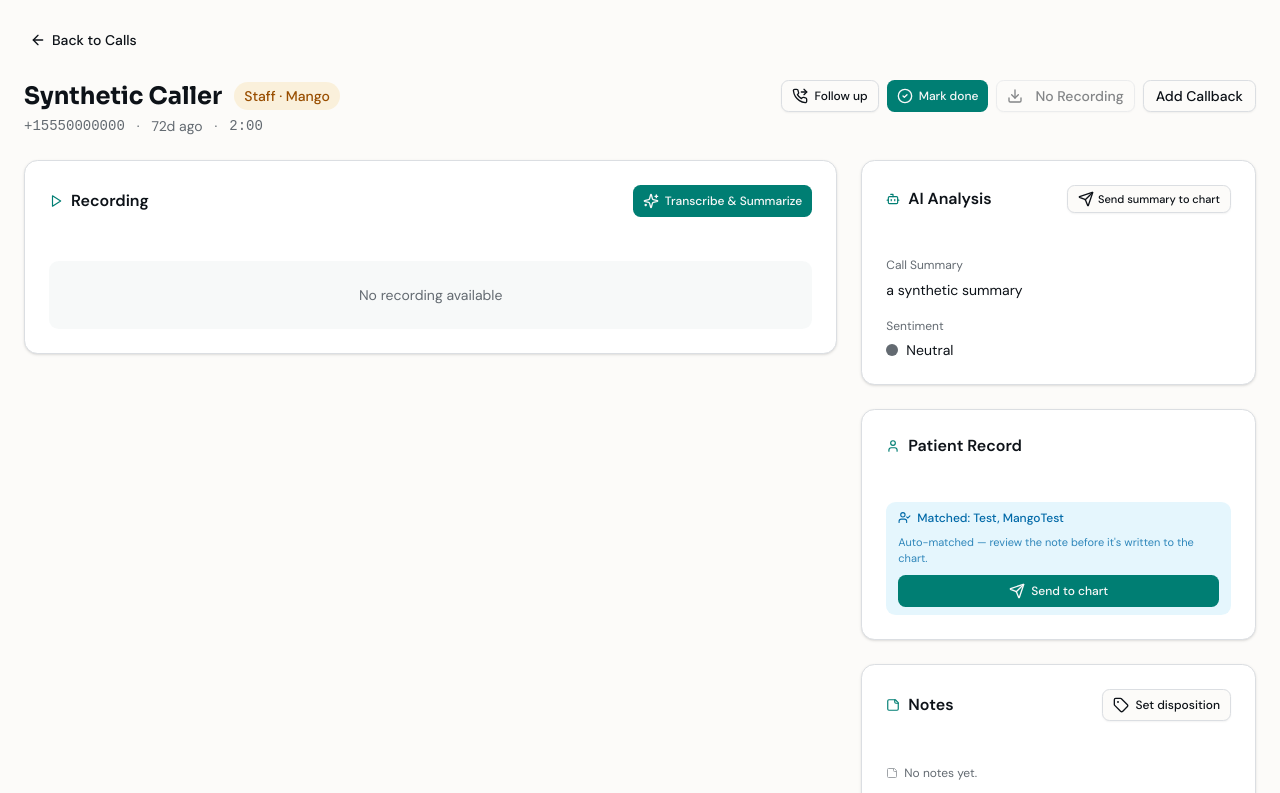
Test: triage on the call-detail page › marks done with the outcome and the note, and says which outcome
Check: the element with test id "call-header-actions" is shown, box [782,80,1256,112]
Click the button with test id "triage-mark-done" at [938, 96], box [887,80,988,112]
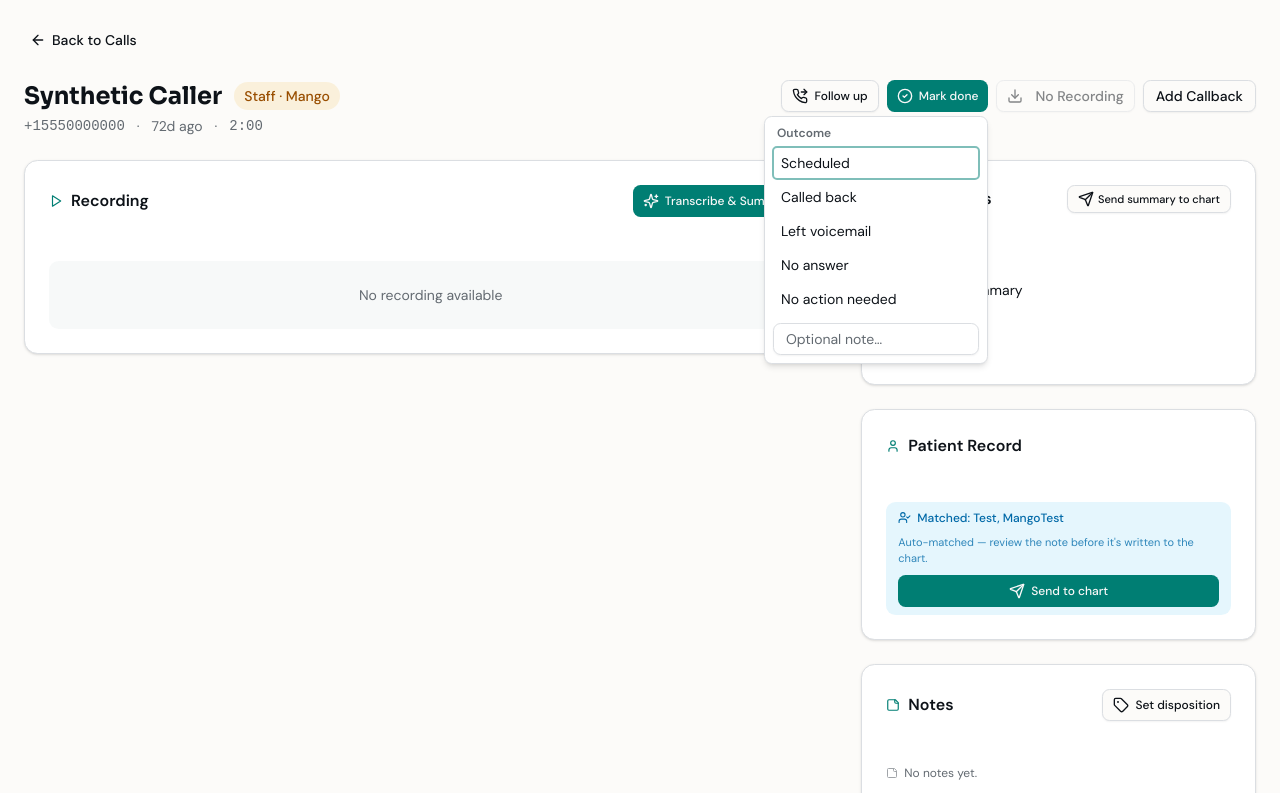
Type "booked for Tuesday" into the field with placeholder "Optional note…" at [876, 339], box [773,323,979,355]
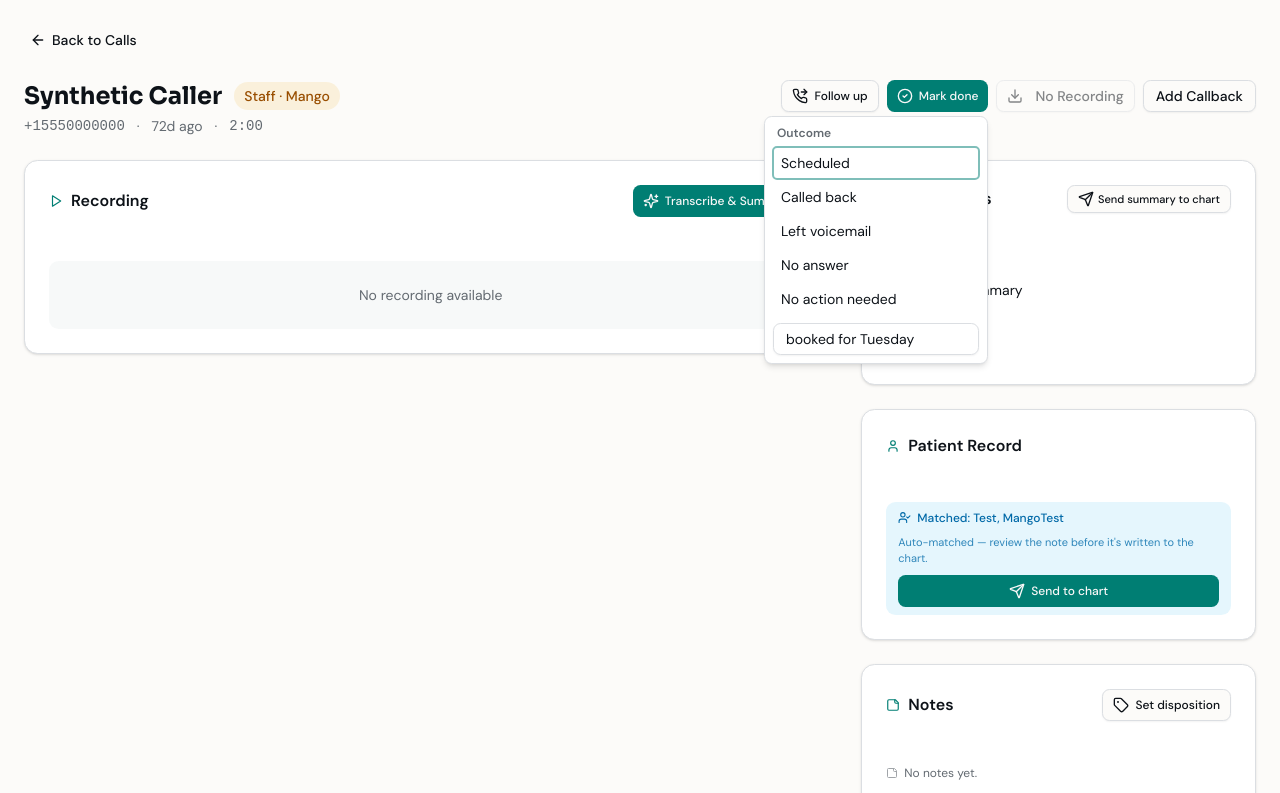
Click the button "Scheduled" at [876, 163], box [773,147,979,179]
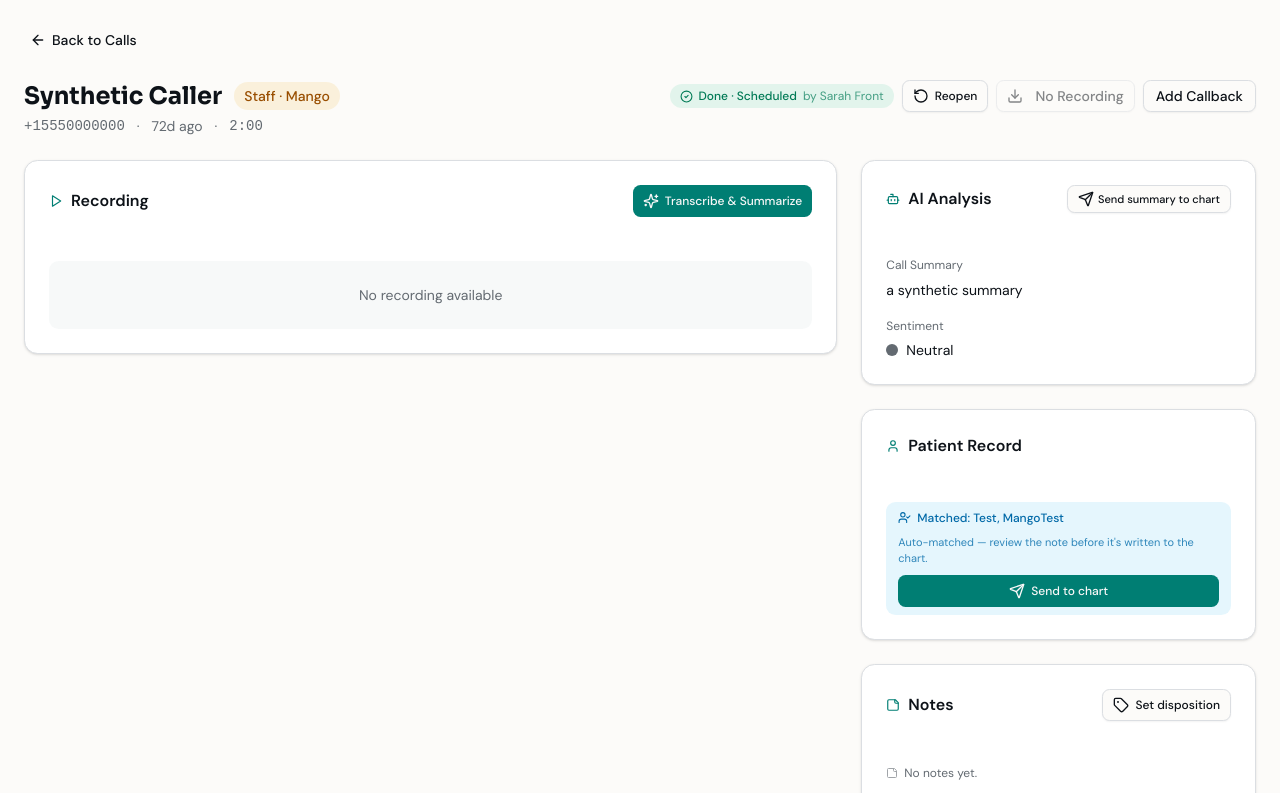
Check: the button with test id "triage-reopen" is shown, box [902,80,988,112]
Check: the element with test id "triage-state-pill" shows "Done", box [698,88,797,104]
